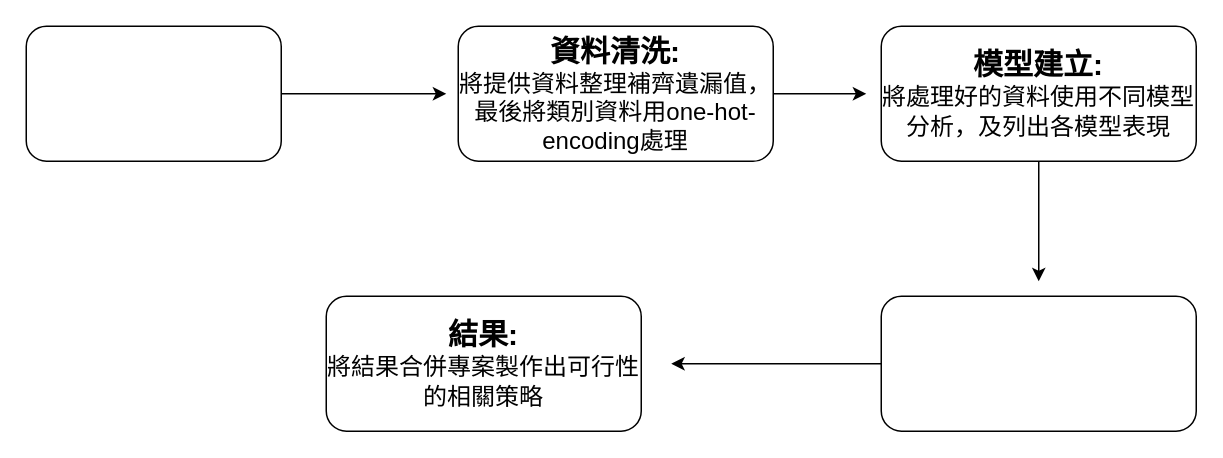
The diagram is 1223 pixels wide and 458 high, and some of its shapes have lost their labels. The shapes that lost their labels are listed below. From the top down, each one's centre as x and y in pixels, then its label:
At point 153,93: "資料獲取: 由國泰金控所以提供的去識別化資料".
At point 1038,363: "資料分析: 將分析完的模型參數圖像化，發現數據中的特徵進而對產品及其目的做出專案".
